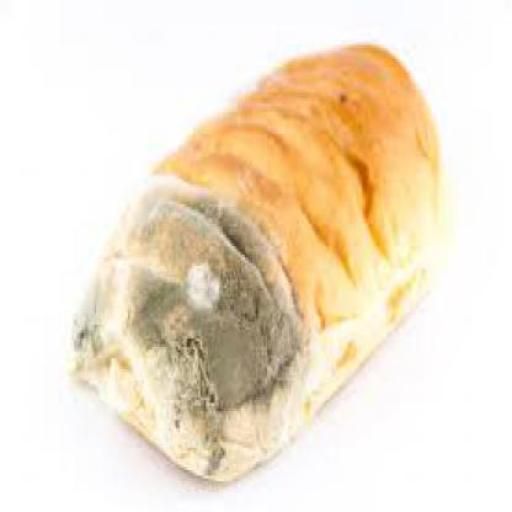biodegradable: (68, 39, 440, 479)
